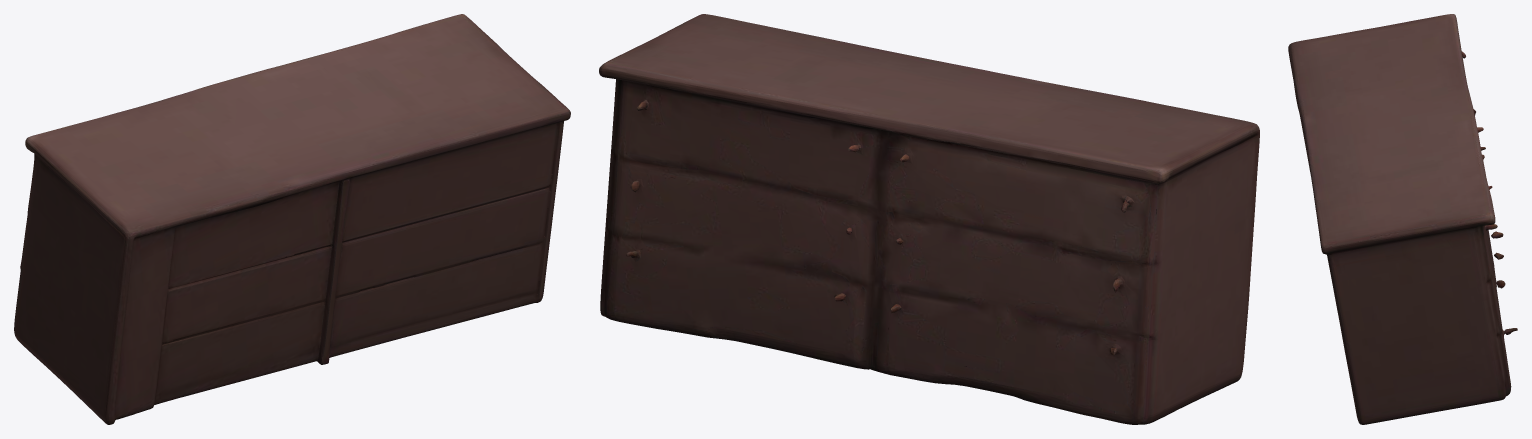
Rendered from brown_wooden_dresser_000.glb.
3 views of the same model, side by side, from view 1: azimuth 30°, elevation 25°; view 2: azimuth 150°, elevation 25°; view 3: azimuth 270°, elevation 25° (orthographic). The views are drawn at different scales.
Visible parts, largest first — view 1: brown_wooden_dresser_000.obj; view 2: brown_wooden_dresser_000.obj; view 3: brown_wooden_dresser_000.obj.
Boxes of the visible parts, box(x1,y1,x2,y2) form: brown_wooden_dresser_000.obj: box(14, 14, 570, 424); brown_wooden_dresser_000.obj: box(599, 14, 1259, 424); brown_wooden_dresser_000.obj: box(1288, 14, 1517, 424).
Size of the model in its own units: 0.9289 by 0.4484 by 0.4396.
Materials: 1 (1 with a texture image).
